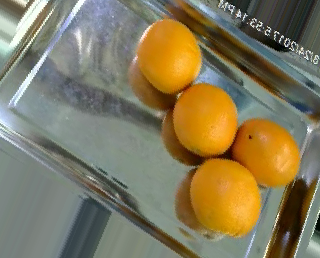Orange: (189, 157, 263, 237), (136, 16, 201, 93), (230, 117, 301, 187), (173, 83, 238, 156)
